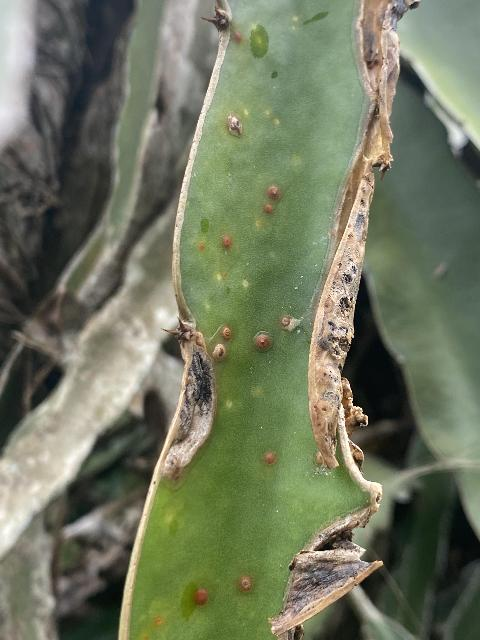stemcanker: (299, 9, 407, 472), (269, 499, 394, 639), (148, 315, 222, 485)
